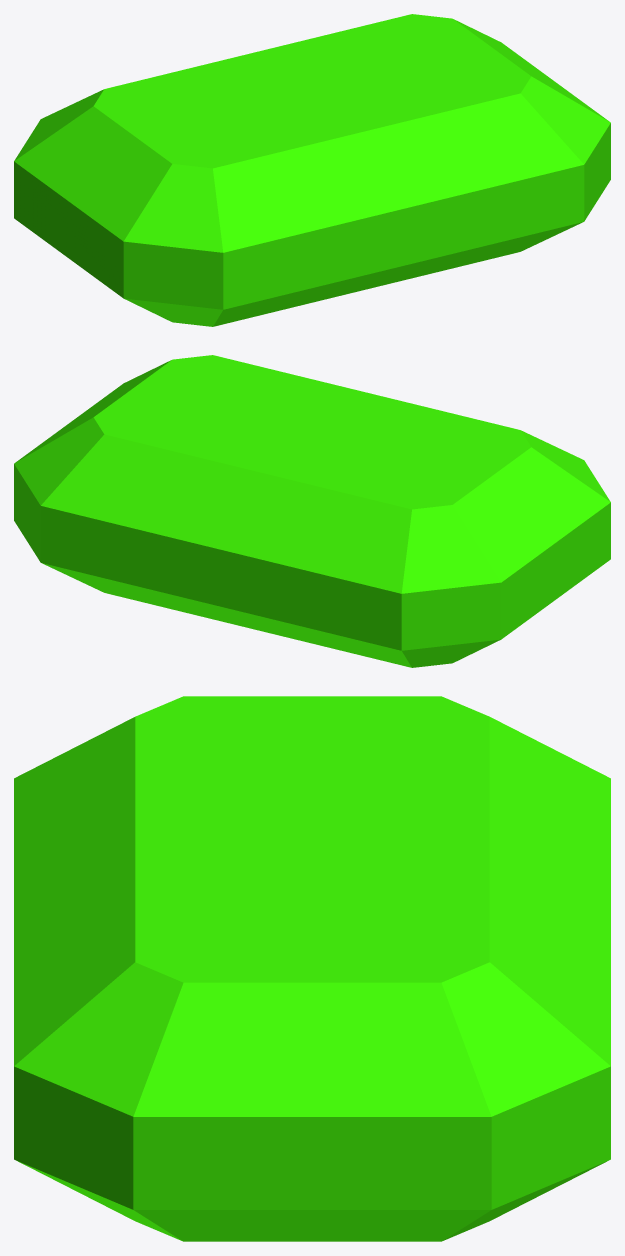
Rendered from daiya3.fbx.
3 views of the same model, one above another, from view 1: azimuth 30°, elevation 25°; view 2: azimuth 150°, elevation 25°; view 3: azimuth 270°, elevation 25° (orthographic). The views are drawn at different scales.
Visible parts, largest first — view 1: pCube1; view 2: pCube1; view 3: pCube1.
Boxes of the visible parts, bbox=[...] form: pCube1: bbox=[14, 14, 610, 326]; pCube1: bbox=[14, 355, 610, 667]; pCube1: bbox=[14, 696, 610, 1241].
Size of the model in its own units: 2.28 by 0.7077 by 1.48.
